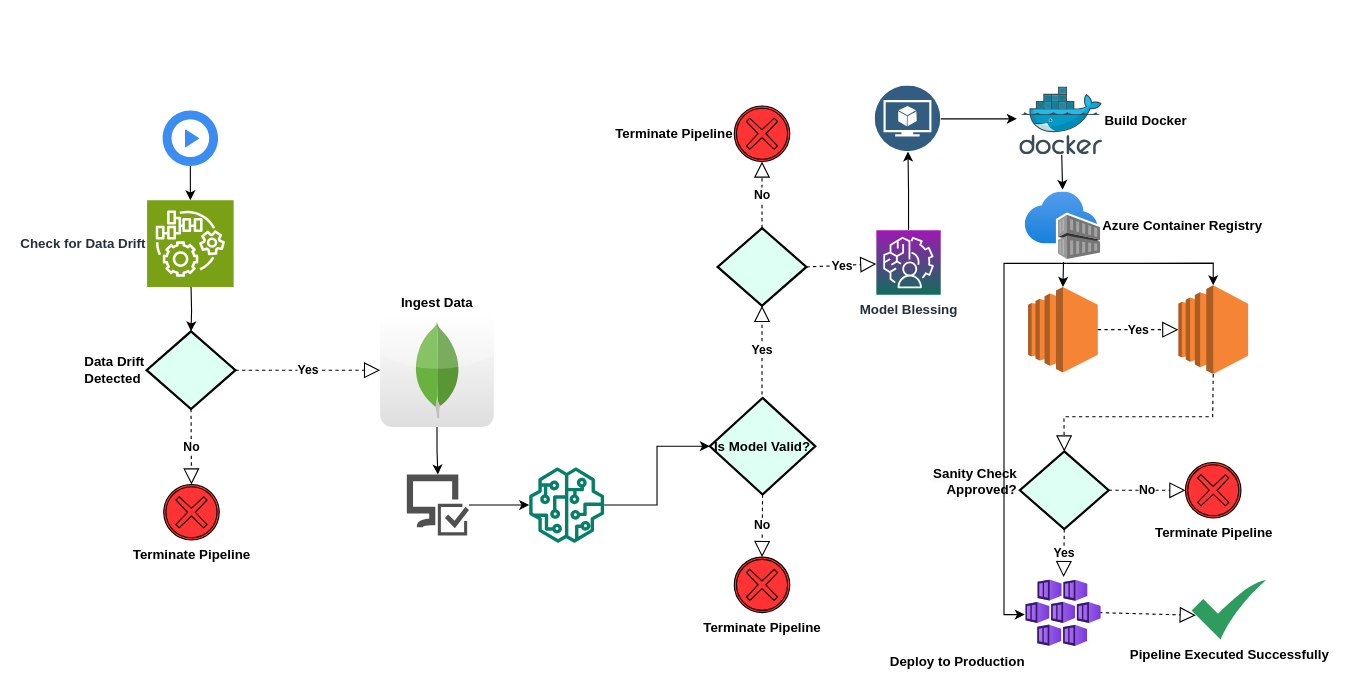
Image size: 1360x688. Some labels were removed from this diagram. Each missing label, with the box of its shape:
Deploy to Dev: (1027, 286, 1098, 372)
Deploy to UAT: (1177, 284, 1248, 374)
Is Trained Model better than current deployed model?: (716, 226, 807, 306)
Model Training And Evaluation: (528, 467, 604, 542)
Pipeline triggers on schedule or a code push to the specific repo: (162, 110, 218, 165)
PrepareTraining Environment: (406, 474, 468, 535)
Preprod Env Setup: (875, 85, 940, 151)
